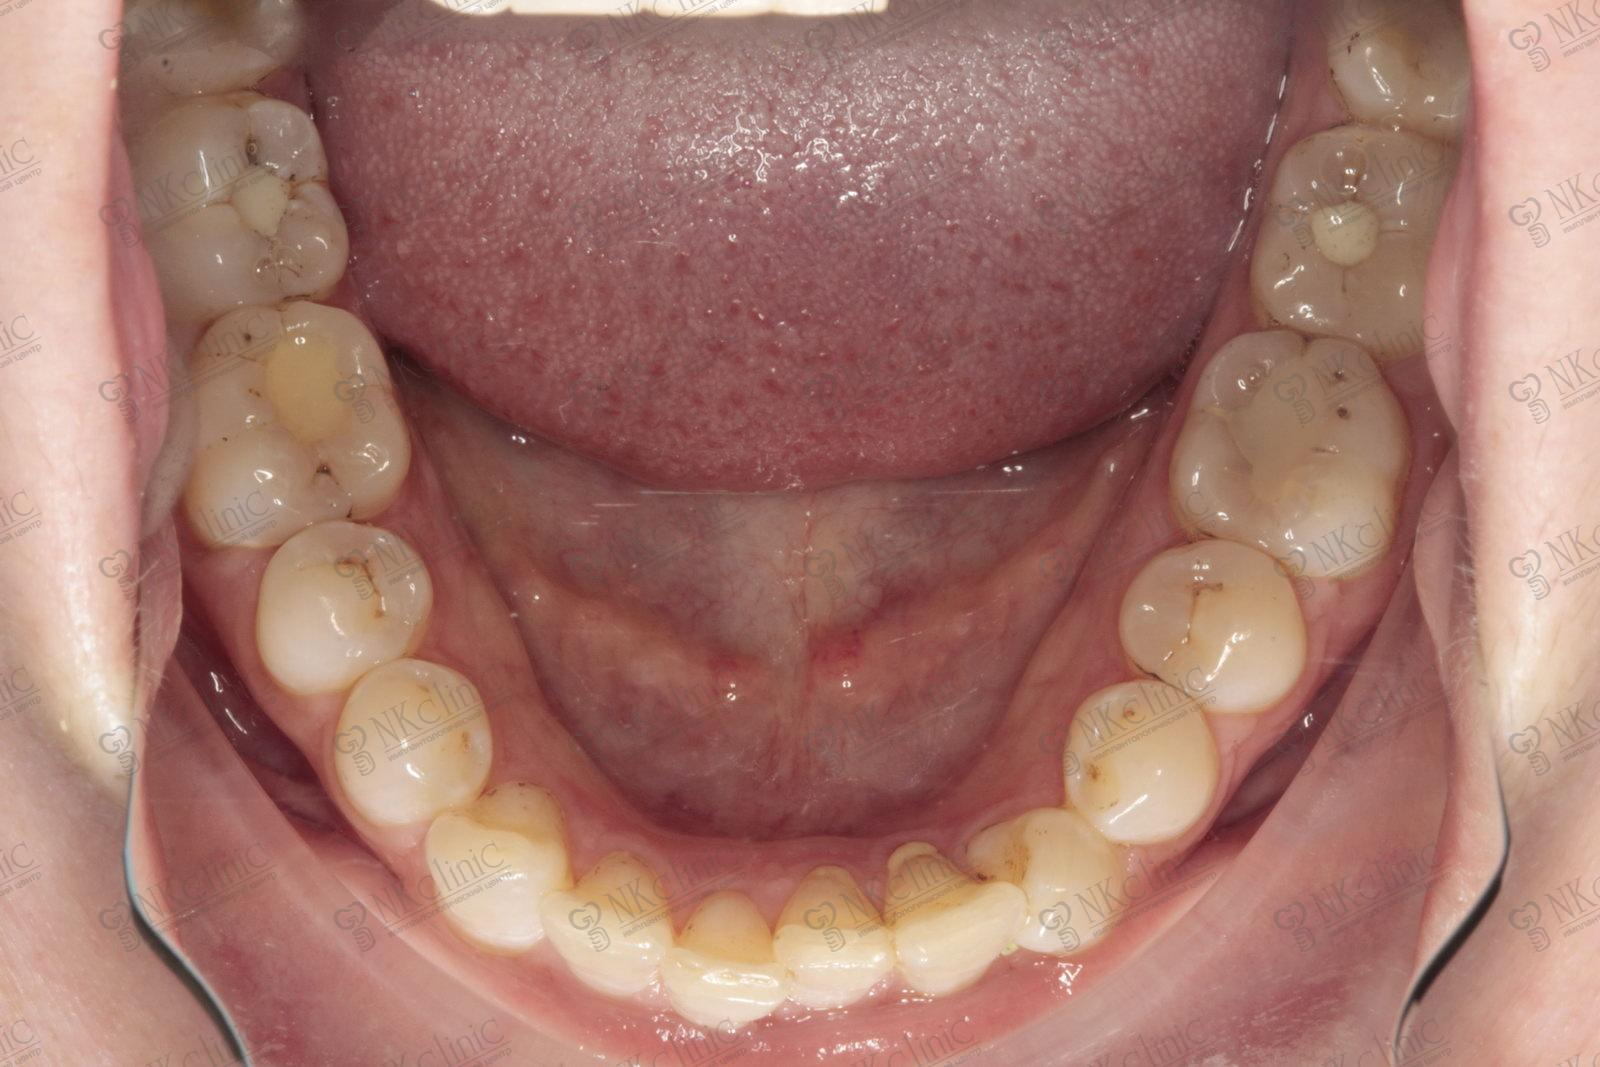LL1BC_decay: (1062, 680, 1217, 848)
LL1M_decay: (1174, 329, 1415, 578)
LL2BC_decay: (1114, 539, 1314, 723)
LL2M_decay: (1250, 127, 1452, 341)
LL3M_decay: (1321, 2, 1480, 138)
LLCI_healthy: (776, 860, 893, 1009)
LLC_healthy: (977, 795, 1129, 967)
LLLI_healthy: (879, 841, 1026, 998)
LR1BC_healthy: (333, 657, 492, 823)
LR1M_decay: (186, 297, 408, 562)
LR2BC_decay: (252, 510, 437, 699)
LR2M_decay: (142, 93, 351, 308)
LR3M_decay: (117, 1, 314, 94)
LRCI_healthy: (665, 893, 776, 1024)
LRC_healthy: (429, 781, 571, 948)
LRLI_healthy: (543, 862, 685, 1002)
